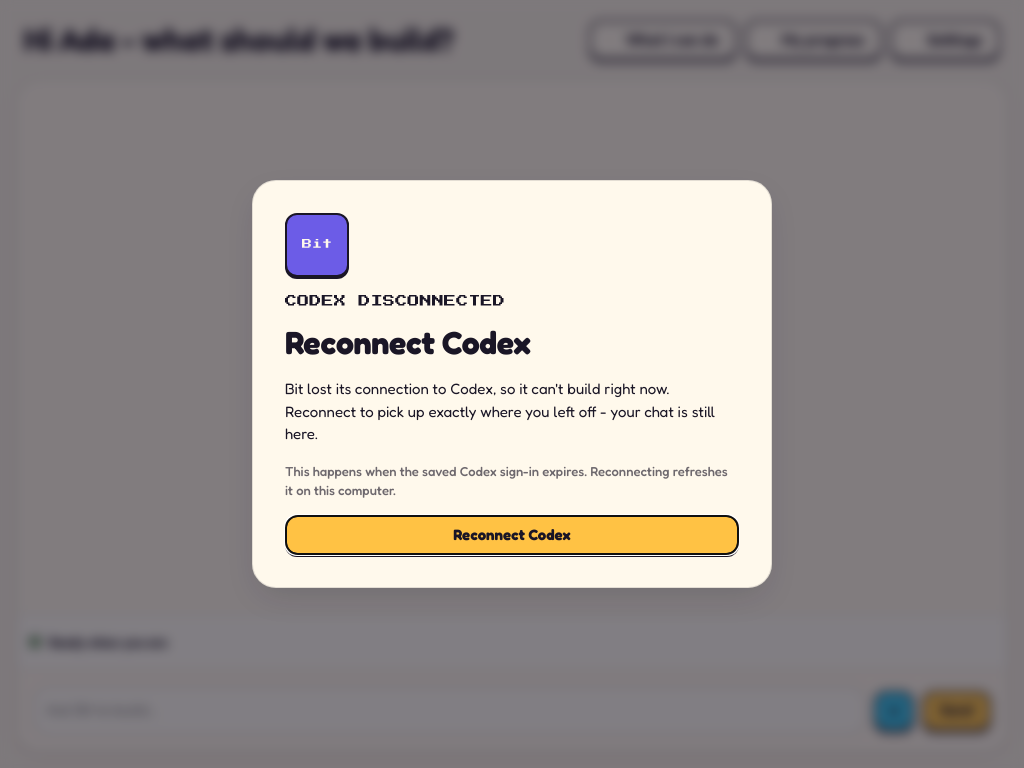
Test: App › reconnects without reloading the chat, preserving the live session
Click the button "Reconnect Codex" at (512, 535), box [285, 515, 739, 555]
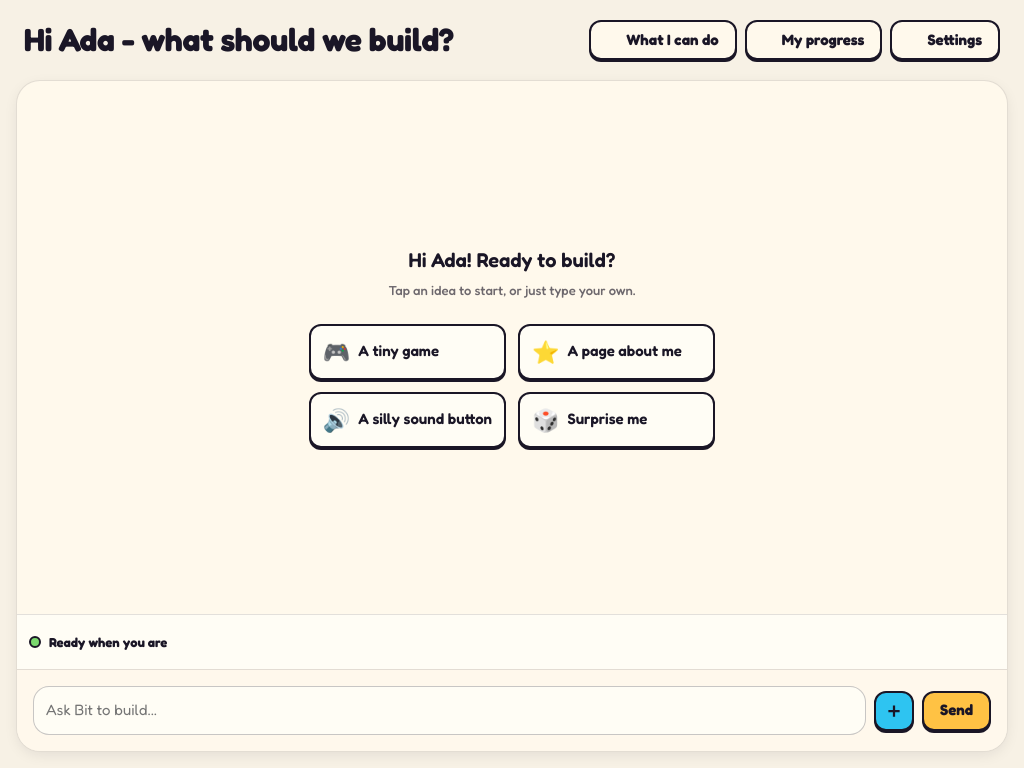
Expected: the text box with id "hibit-composer" is shown, [33, 686, 866, 735]
Expected: the dialog with class "hb-reconnect-backdrop" is gone
